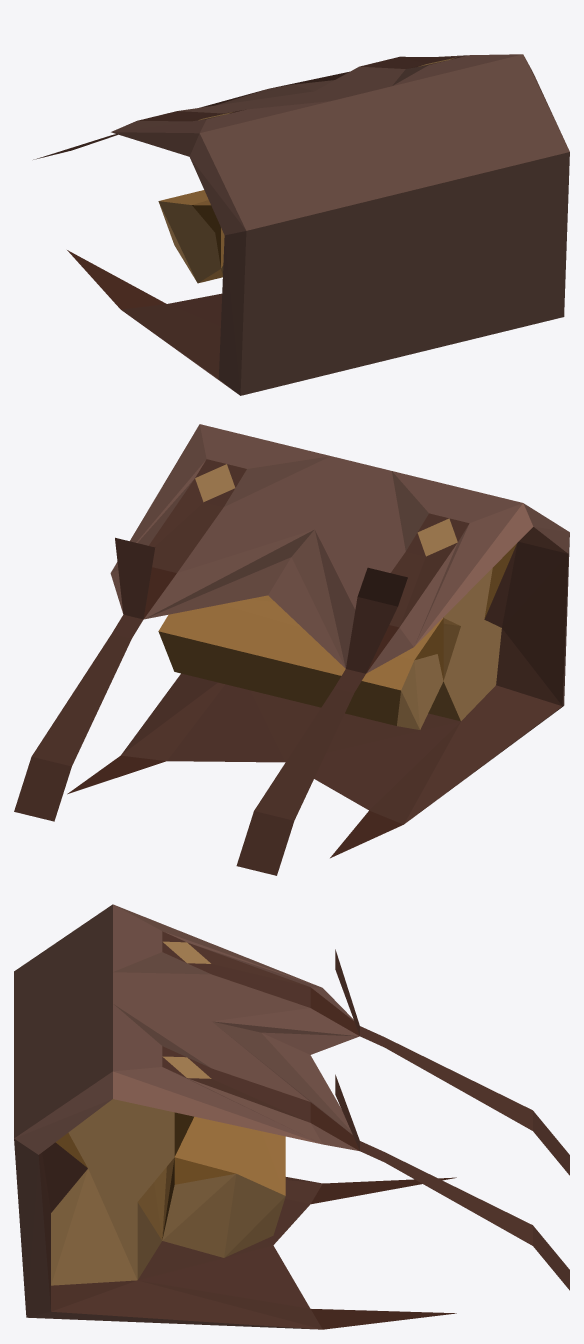
File: log-basket.gltf
3 renders of one model, top to bottom at view 1: azimuth 30°, elevation 25°; view 2: azimuth 150°, elevation 25°; view 3: azimuth 270°, elevation 25°, orthographic. The views are drawn at different scales.
Size of the model in its own units: 34 by 24 by 45.
1 material, 1 textured.
